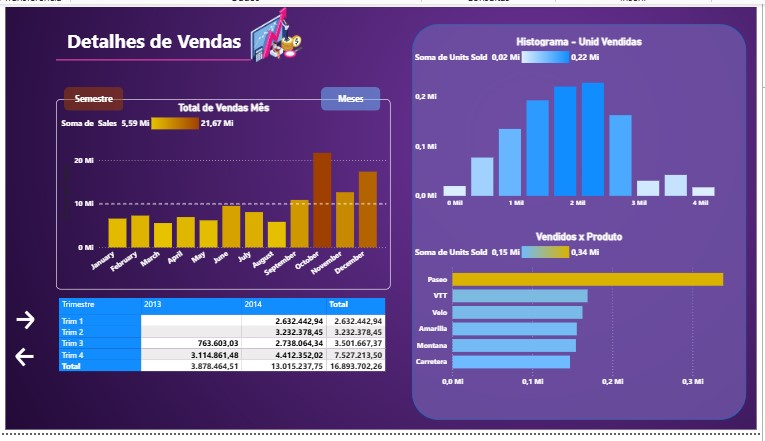

What the dashboard file says about the page in this screenshot:
{"tool":"powerbi","page":{"name":"Detalhes","canvas":[1280,720],"ordinal":2},"visuals":[{"type":"image","title":"fundo_purple","box":[0,0,1279.9,720],"z":0},{"type":"shape","title":"Forma/linha","box":[93.6,72,326.9,43.2],"z":1000},{"type":"textbox","box":[108,33.1,312.5,57.6],"z":2000},{"type":"image","box":[406.1,0,116.2,104.2],"z":3000},{"type":"columnChart","title":"Total de Vendas Mês","fields":{"Category":["financials.Month Name"],"Y":["Sum(financials. Sales)"]},"box":[93.6,159.8,561.6,319.7],"z":4000},{"type":"actionButton","box":[108,139.7,100,40],"z":5000},{"type":"actionButton","box":[540,139.7,100,40],"z":6000},{"type":"pivotTable","fields":{"Columns":["financials.Year"],"Rows":["financials.Date.Variation.Hierarquia de datas.Trimestre"],"Values":["Sum(financials.Profit)"]},"box":[93.6,489.6,576,180],"z":7000},{"type":"shape","box":[692.6,33.1,561.6,665.3],"z":8000},{"type":"columnChart","title":"Histograma - Unid Vendidas","fields":{"Category":["financials.Units Sold (compartimentos)"],"Y":["Sum(financials.Units Sold)"]},"box":[692.6,51.8,561.6,299.5],"z":9000},{"type":"barChart","title":"Vendidos x Produto","fields":{"Category":["financials.Product"],"Y":["Sum(financials.Units Sold)"]},"box":[692.6,380.2,561.6,273.6],"z":9001},{"type":"actionButton","box":[21.1,510.6,54.6,40.5],"z":9002},{"type":"actionButton","box":[21.1,572.2,54.6,40.5],"z":9003}]}

Visuals, with their boxes in screenshot pixels (x1, y1, x2, y2), scaled from the page's 1280x720 canvas onto the 765x441 screenshot:
"fundo_purple" image: BBox(0, 0, 764, 440)
"Forma/linha" shape: BBox(56, 44, 251, 71)
textbox: BBox(65, 20, 251, 56)
image: BBox(243, 0, 312, 64)
"Total de Vendas Mês" columnChart: BBox(56, 98, 392, 294)
actionButton: BBox(65, 86, 124, 110)
actionButton: BBox(323, 86, 382, 110)
pivotTable - financials.Year x financials.Date.Variation.Hierarquia de datas.Trimestre: BBox(56, 300, 400, 410)
shape: BBox(414, 20, 750, 428)
"Histograma - Unid Vendidas" columnChart: BBox(414, 32, 750, 215)
"Vendidos x Produto" barChart: BBox(414, 233, 750, 400)
actionButton: BBox(13, 313, 45, 338)
actionButton: BBox(13, 350, 45, 375)
